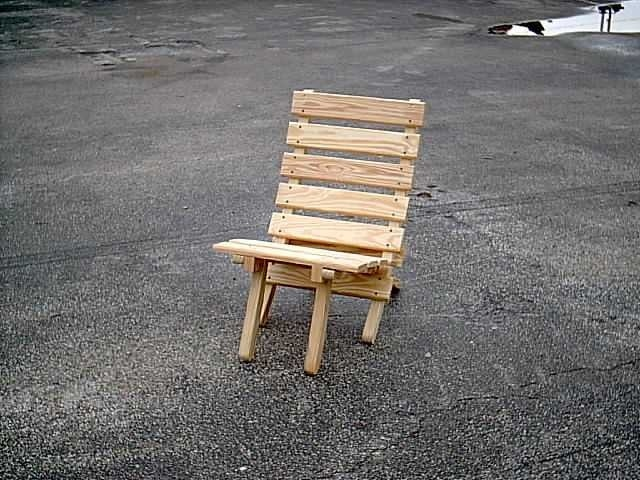obstacle: (213, 90, 425, 374)
